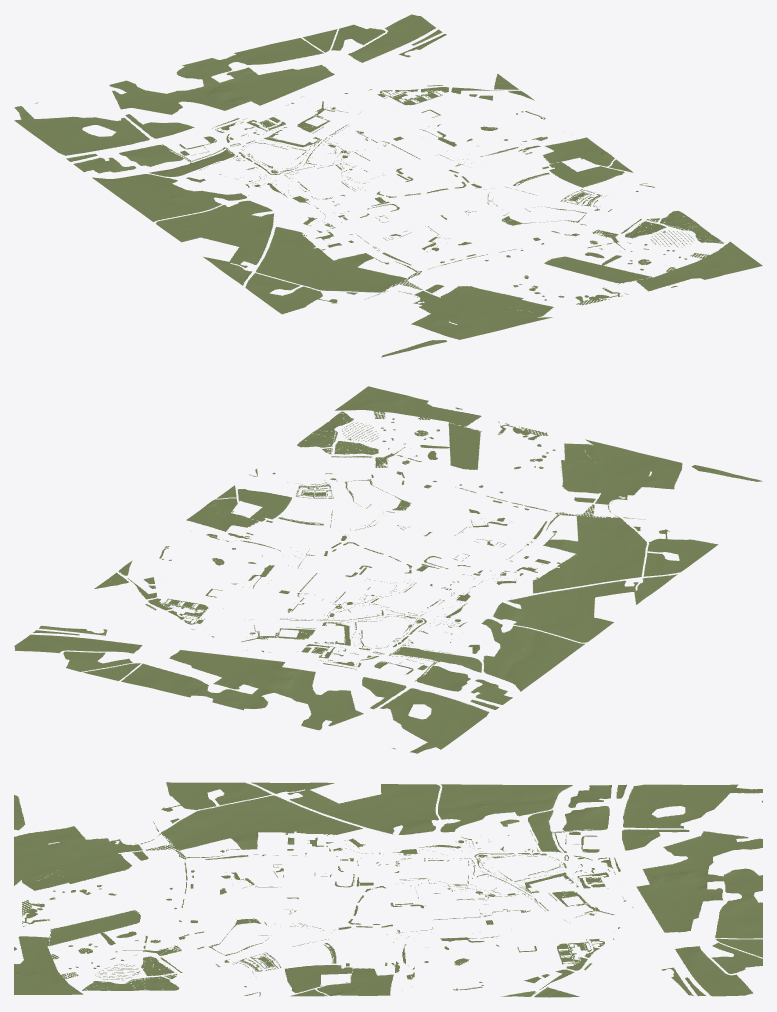
The model's file is linghem_markvegetation.glb.
The picture shows the model from 3 angles, top to bottom: view 1: azimuth 30°, elevation 25°; view 2: azimuth 150°, elevation 25°; view 3: azimuth 270°, elevation 25°; orthographic projection. The views are drawn at different scales.
Parts seen in each view (by area): view 1: Markvegetation_2_9, Markvegetation_0_4, Markvegetation_0_3, Markvegetation_1_7, Markvegetation_0_7, Markvegetation_3_0, Markvegetation_0_6, Markvegetation_0_1, Markvegetation_5_0, Markvegetation_6_5, Markvegetation_1_6, Markvegetation_1_1 (+24 smaller); view 2: Markvegetation_2_9, Markvegetation_0_3, Markvegetation_0_4, Markvegetation_1_7, Markvegetation_0_7, Markvegetation_0_6, Markvegetation_0_1, Markvegetation_3_0, Markvegetation_5_0, Markvegetation_1_6, Markvegetation_4_0, Markvegetation_6_5 (+24 smaller); view 3: Markvegetation_2_9, Markvegetation_0_3, Markvegetation_1_7, Markvegetation_0_4, Markvegetation_0_7, Markvegetation_0_6, Markvegetation_3_0, Markvegetation_0_1, Markvegetation_5_0, Markvegetation_1_6, Markvegetation_1_1, Markvegetation_6_5 (+36 smaller).
Part boxes in pixels (x1=…): Markvegetation_2_9: x1=428, y1=290, x2=519, y2=329; Markvegetation_0_4: x1=140, y1=197, x2=231, y2=235; Markvegetation_0_3: x1=106, y1=173, x2=197, y2=211; Markvegetation_1_7: x1=300, y1=256, x2=393, y2=291; Markvegetation_0_7: x1=242, y1=271, x2=328, y2=309; Markvegetation_3_0: x1=182, y1=52, x2=272, y2=91; Markvegetation_0_6: x1=208, y1=246, x2=299, y2=283; Markvegetation_0_1: x1=38, y1=122, x2=126, y2=161; Markvegetation_5_0: x1=298, y1=25, x2=390, y2=57; Markvegetation_6_5: x1=527, y1=137, x2=616, y2=173; Markvegetation_1_6: x1=269, y1=232, x2=358, y2=270; Markvegetation_1_1: x1=96, y1=107, x2=185, y2=144; Markvegetation_2_9: x1=563, y1=453, x2=658, y2=493; Markvegetation_0_3: x1=474, y1=639, x2=568, y2=680; Markvegetation_0_4: x1=509, y1=614, x2=603, y2=654; Markvegetation_1_7: x1=553, y1=520, x2=643, y2=561; Markvegetation_0_7: x1=614, y1=538, x2=709, y2=575; Markvegetation_0_6: x1=580, y1=562, x2=674, y2=601; Markvegetation_0_1: x1=404, y1=694, x2=497, y2=732; Markvegetation_3_0: x1=185, y1=671, x2=280, y2=709; Markvegetation_5_0: x1=66, y1=641, x2=146, y2=681; Markvegetation_1_6: x1=523, y1=546, x2=613, y2=586; Markvegetation_4_0: x1=125, y1=658, x2=219, y2=695; Markvegetation_6_5: x1=186, y1=498, x2=273, y2=537; Markvegetation_2_9: x1=36, y1=843, x2=109, y2=874; Markvegetation_0_3: x1=471, y1=785, x2=544, y2=815; Markvegetation_1_7: x1=181, y1=813, x2=254, y2=844; Markvegetation_0_4: x1=399, y1=784, x2=471, y2=814; Markvegetation_0_7: x1=181, y1=782, x2=254, y2=814; Markvegetation_0_6: x1=254, y1=783, x2=326, y2=814; Markvegetation_3_0: x1=690, y1=874, x2=762, y2=906; Markvegetation_0_1: x1=616, y1=785, x2=689, y2=815; Markvegetation_5_0: x1=690, y1=936, x2=761, y2=966; Markvegetation_1_6: x1=254, y1=814, x2=326, y2=845; Markvegetation_1_1: x1=622, y1=815, x2=689, y2=846; Markvegetation_6_5: x1=326, y1=966, x2=399, y2=996.
Size of the model in its own units: 1740 by 23.57 by 2580.
